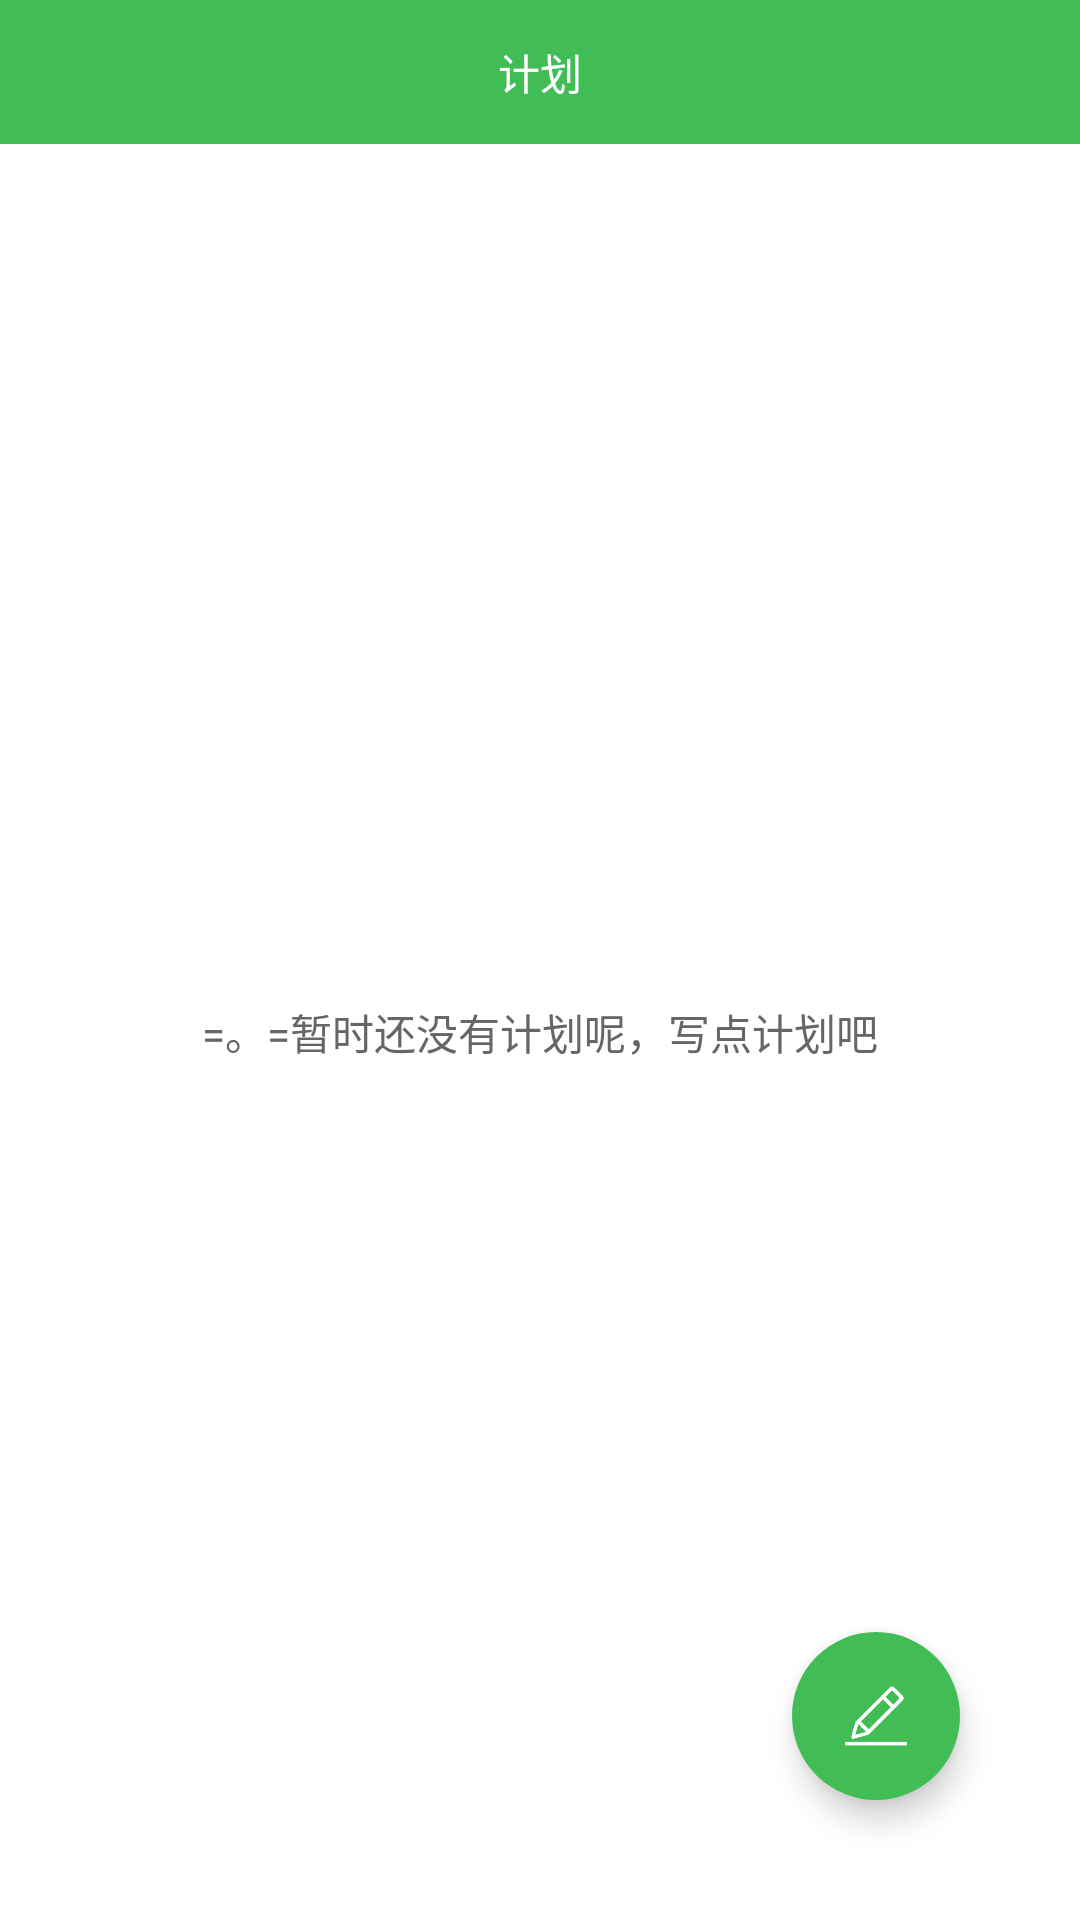

Icon click points for this 1080px x 1920px phone screenshot, format (x,y):
pen: (876,1716)
